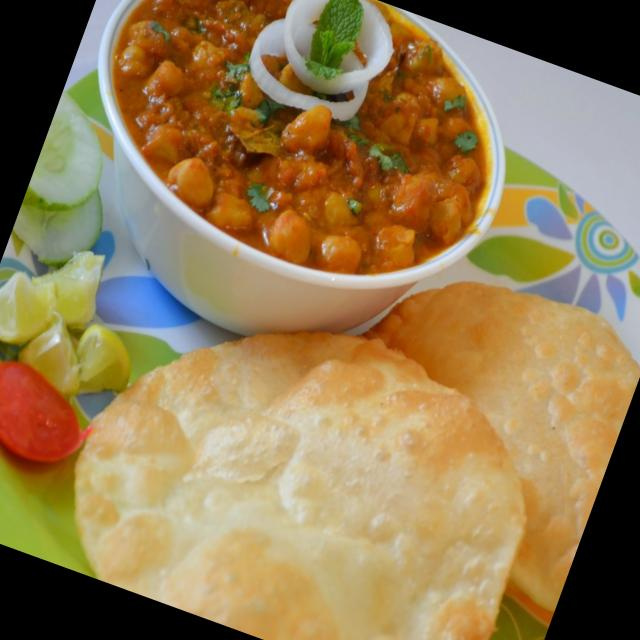Bhatura: (39, 257, 572, 640), (291, 239, 640, 614)
Chole: (67, 0, 534, 317)
